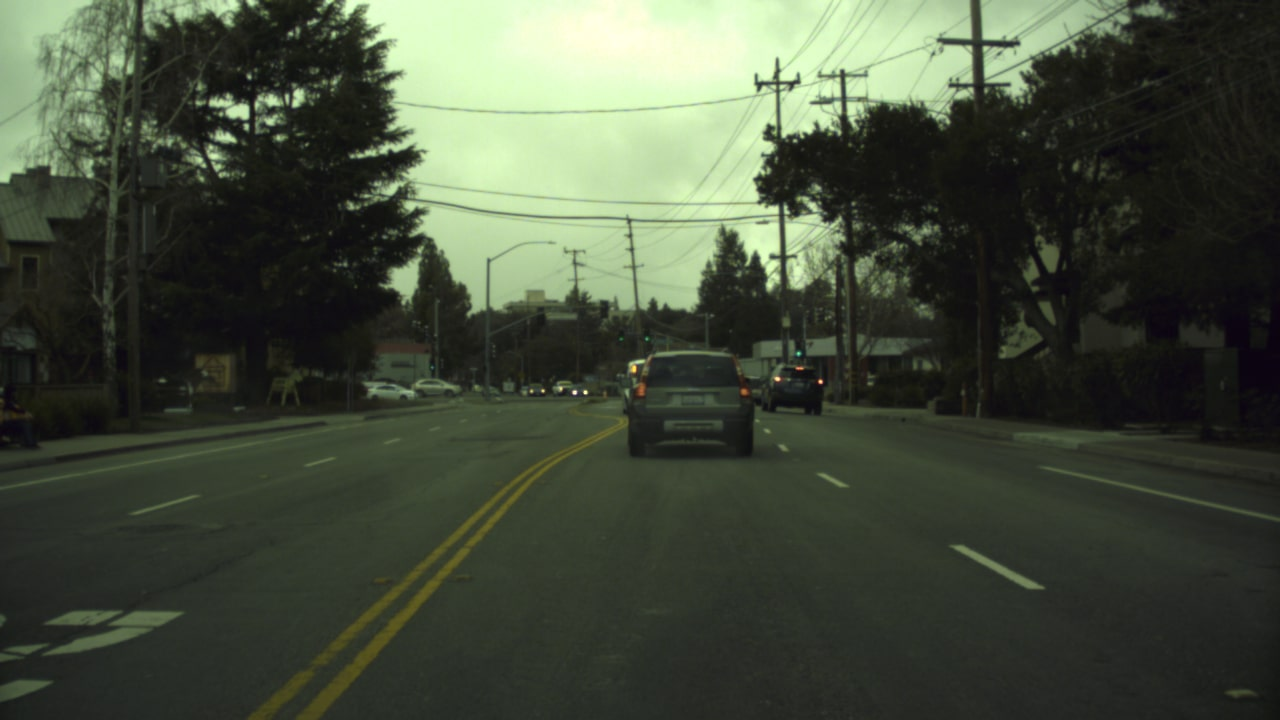signal: (616, 327, 627, 347), (791, 346, 804, 362), (640, 328, 651, 345)
